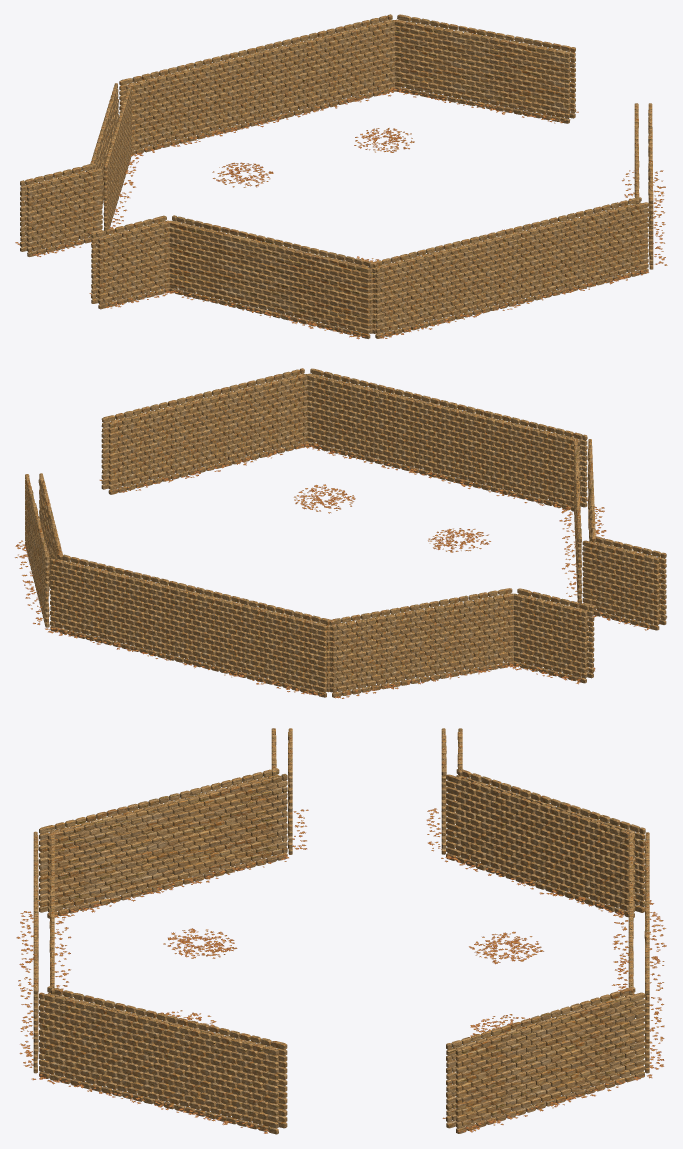
File: AutumnDetailRoom06.fbx
The picture shows the model from 3 angles, top to bottom: view 1: azimuth 30°, elevation 25°; view 2: azimuth 150°, elevation 25°; view 3: azimuth 270°, elevation 25°; orthographic projection. The views are drawn at different scales.
Visible parts, largest first — view 1: R06_AutumnStonework_LOD0, R06_AutumnLeafDrifts_LOD0; view 2: R06_AutumnStonework_LOD0, R06_AutumnLeafDrifts_LOD0; view 3: R06_AutumnStonework_LOD0, R06_AutumnLeafDrifts_LOD0.
Part boxes in pixels (x1=…): R06_AutumnStonework_LOD0: x1=20, y1=14, x2=653, y2=338; R06_AutumnLeafDrifts_LOD0: x1=15, y1=88, x2=667, y2=339; R06_AutumnStonework_LOD0: x1=25, y1=368, x2=666, y2=697; R06_AutumnLeafDrifts_LOD0: x1=15, y1=443, x2=666, y2=698; R06_AutumnStonework_LOD0: x1=33, y1=728, x2=649, y2=1134; R06_AutumnLeafDrifts_LOD0: x1=16, y1=808, x2=666, y2=1133.
Size of what is drawn, in the model's own units: 45.6 by 5.47 by 38.53.
